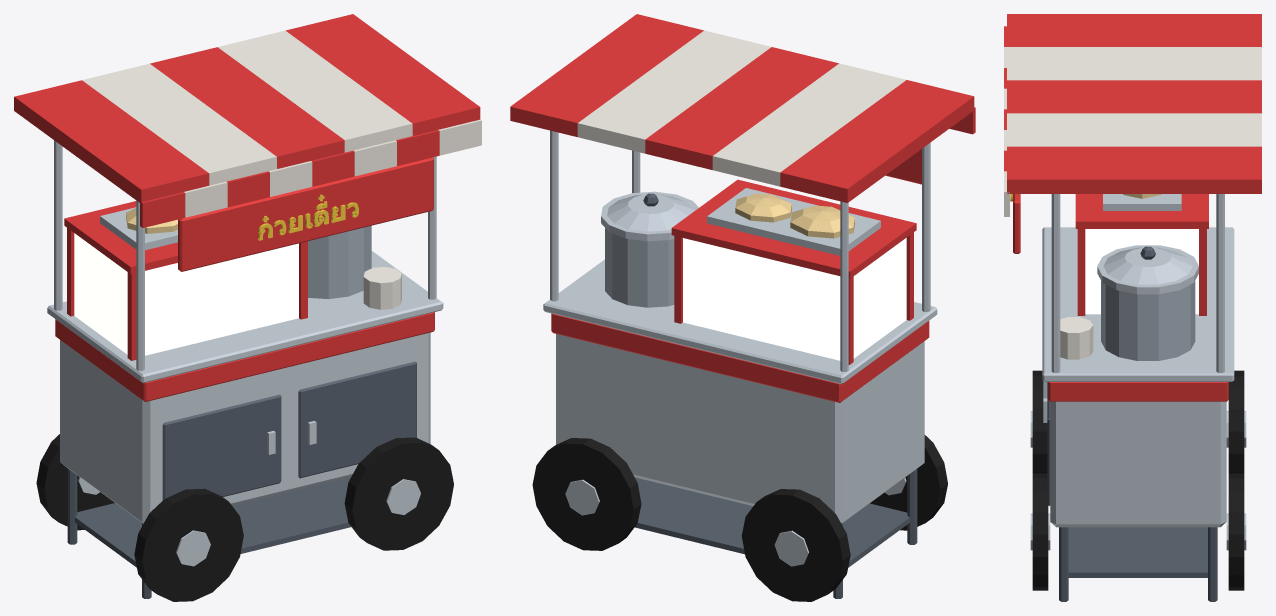
File: food_cart.glb
The picture shows the model from 3 angles, left to right: view 1: azimuth 30°, elevation 25°; view 2: azimuth 150°, elevation 25°; view 3: azimuth 270°, elevation 25°; orthographic projection.
Visible parts, largest first — view 1: food_cart; view 2: food_cart; view 3: food_cart.
Boxes of the visible parts, <box> form: food_cart: <box>14,14,481,601</box>; food_cart: <box>510,14,975,601</box>; food_cart: <box>1004,14,1261,601</box>.
Bounding box in the file's own units: 2 × 2.46 × 1.31.
